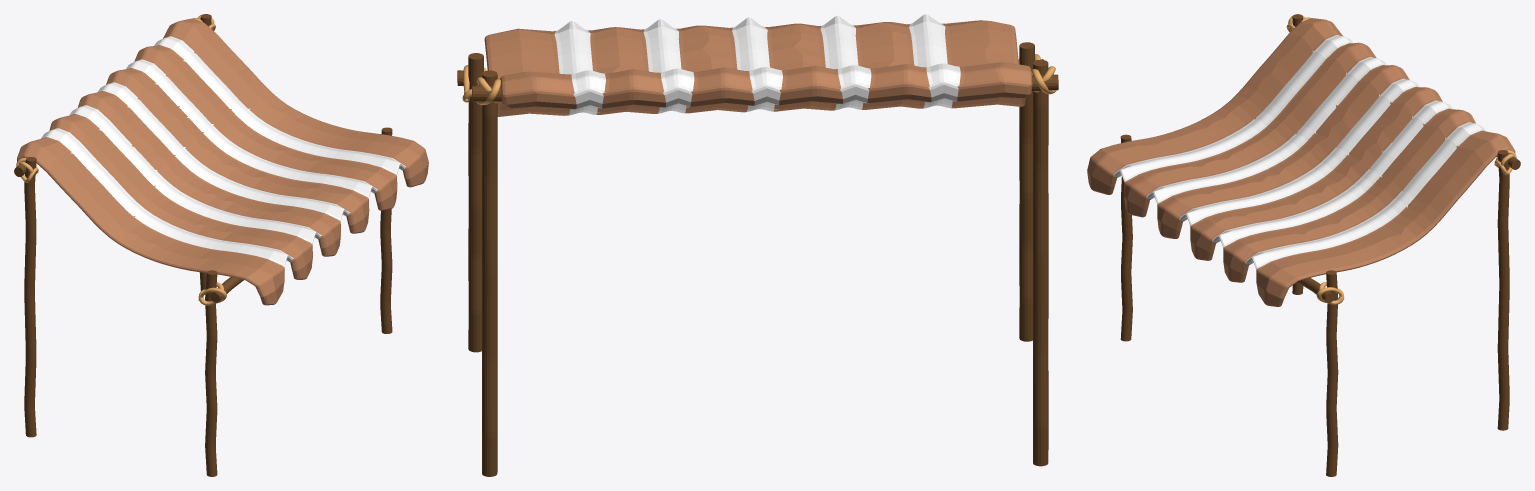
Rendered from market-stall2.fbx.
The picture shows the model from 3 angles, left to right: view 1: azimuth 30°, elevation 25°; view 2: azimuth 150°, elevation 25°; view 3: azimuth 270°, elevation 25°; orthographic projection. The views are drawn at different scales.
Parts seen in each view (by area): view 1: Plane.066; view 2: Plane.066; view 3: Plane.066.
Part boxes in pixels (x1,y1,x2,y2): Plane.066: [14, 14, 428, 476]; Plane.066: [457, 14, 1058, 476]; Plane.066: [1087, 14, 1520, 476].
Bounding box in the file's own units: 535 × 353 × 497.
